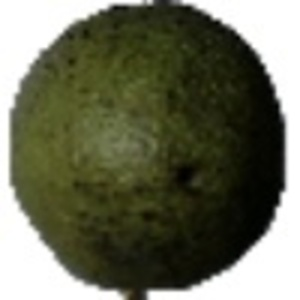abacate: (5, 2, 287, 289)
